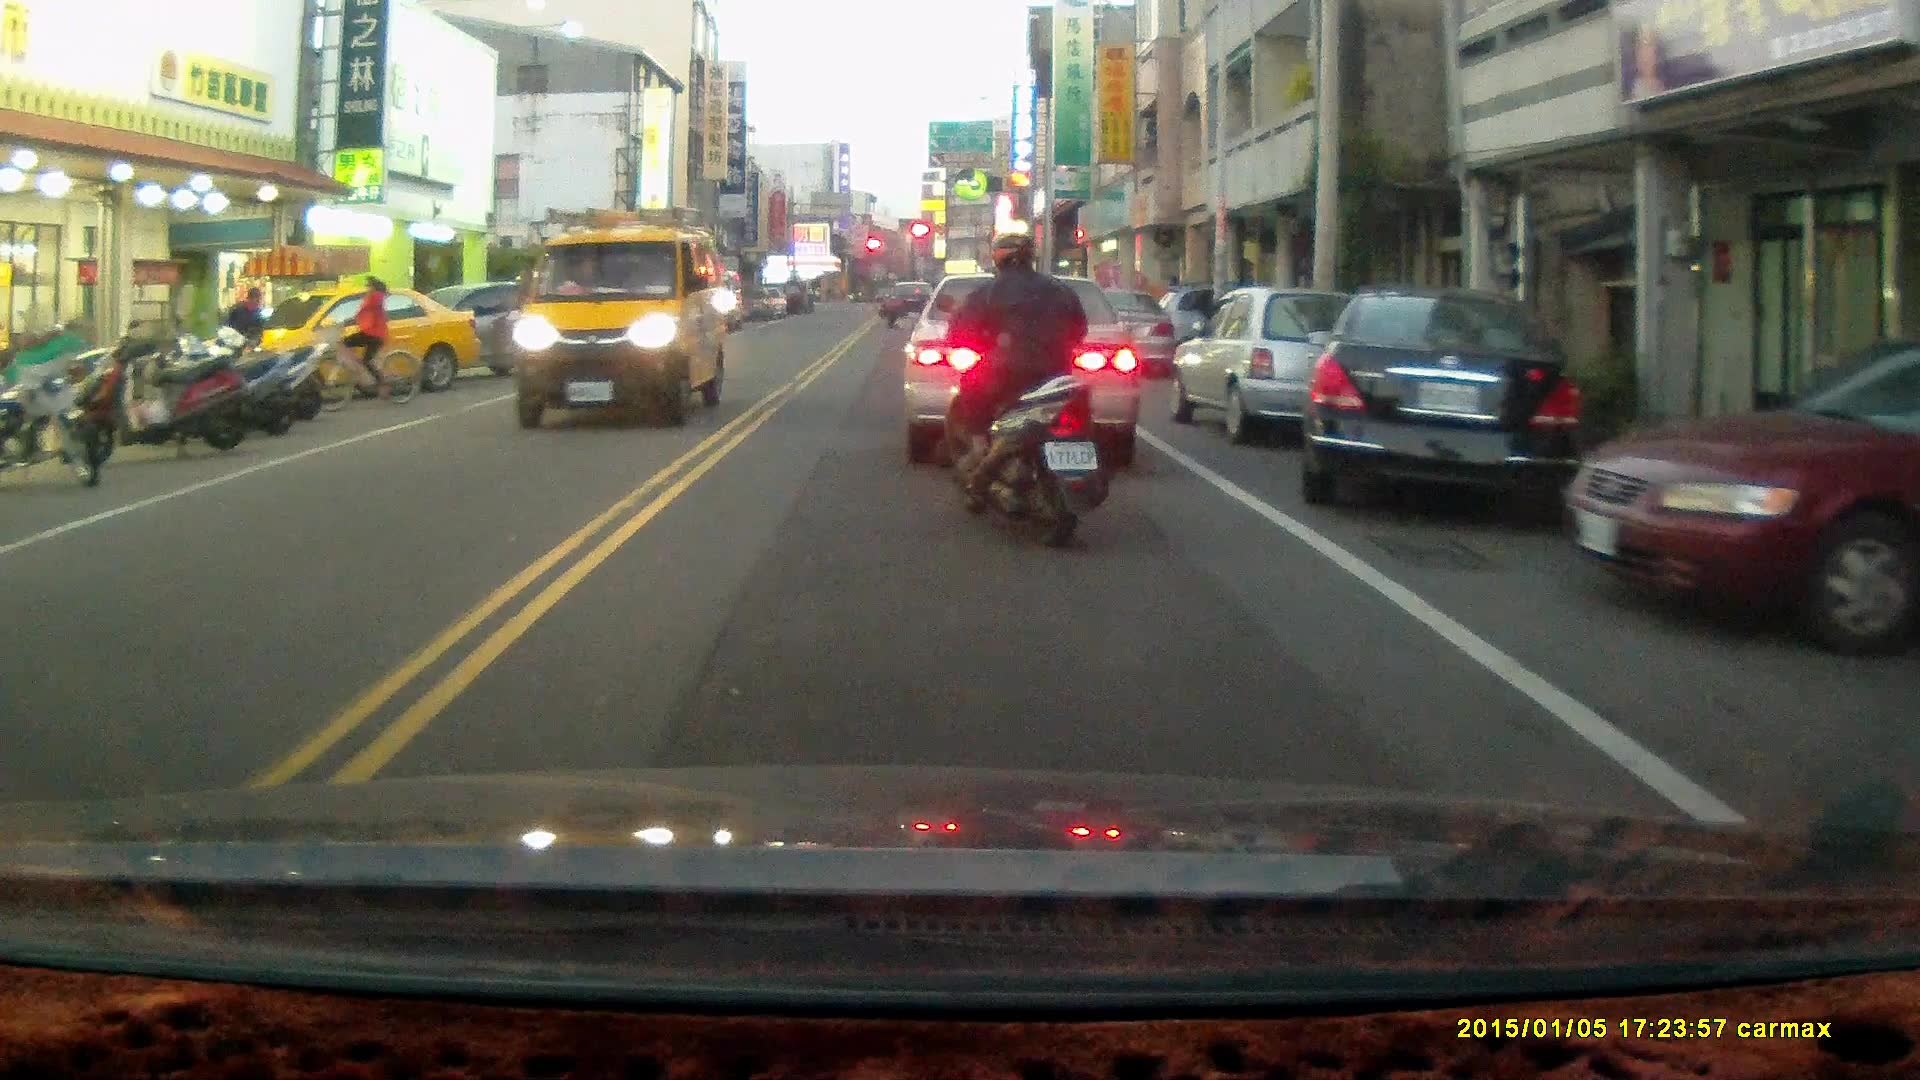pedestrian: (222, 284, 266, 383)
rider: (934, 226, 1106, 549), (311, 274, 418, 408)
vehicle: (1554, 333, 1920, 660), (1309, 284, 1587, 528), (511, 206, 732, 427), (909, 269, 1156, 462), (1164, 282, 1401, 446), (247, 288, 485, 399)
